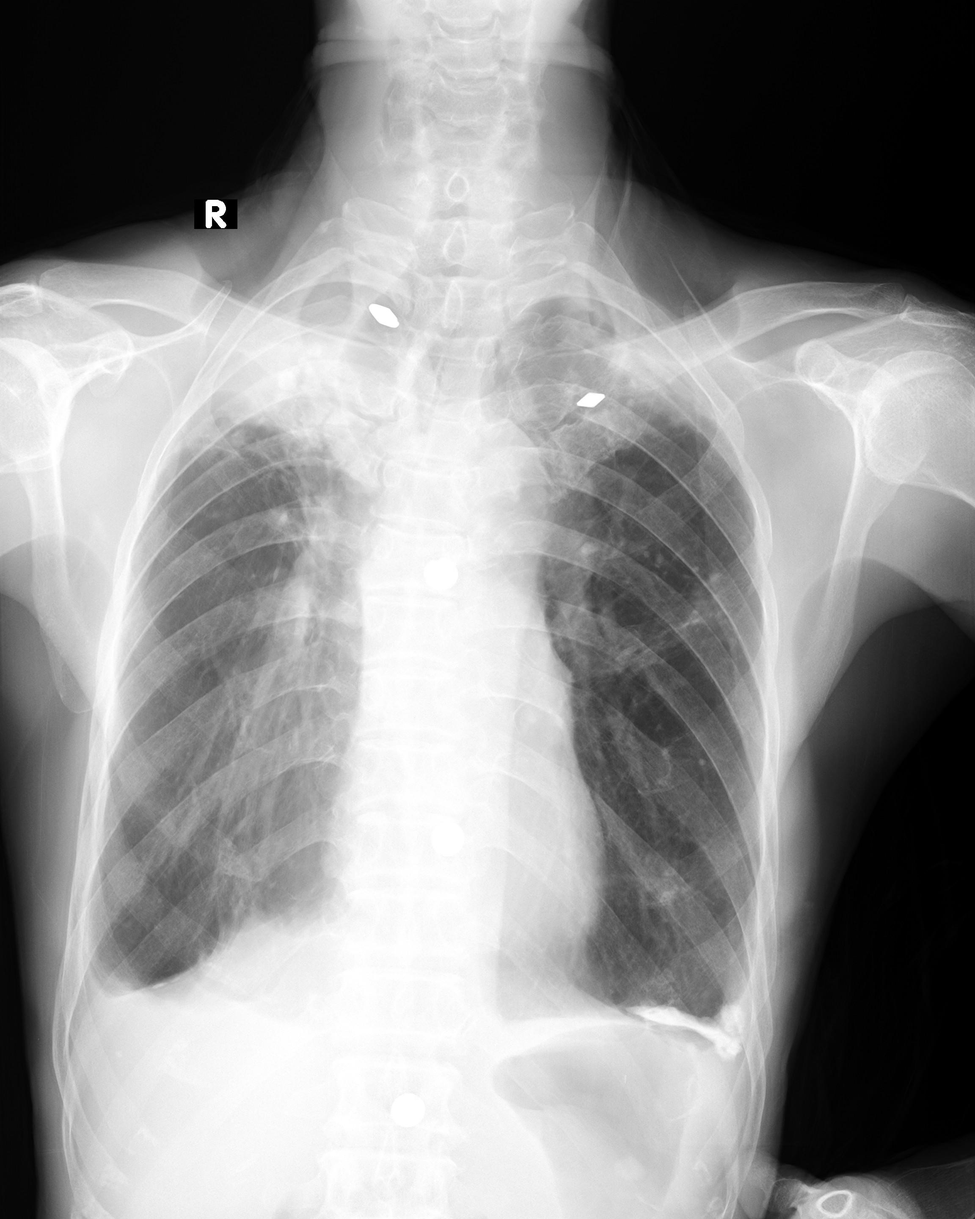Pleural thickening: (198, 274, 427, 424), (192, 876, 350, 971), (607, 300, 717, 433), (623, 985, 749, 1061), (52, 938, 130, 1048)
Pulmonary fibrosis: (213, 422, 360, 532), (644, 549, 748, 649)
